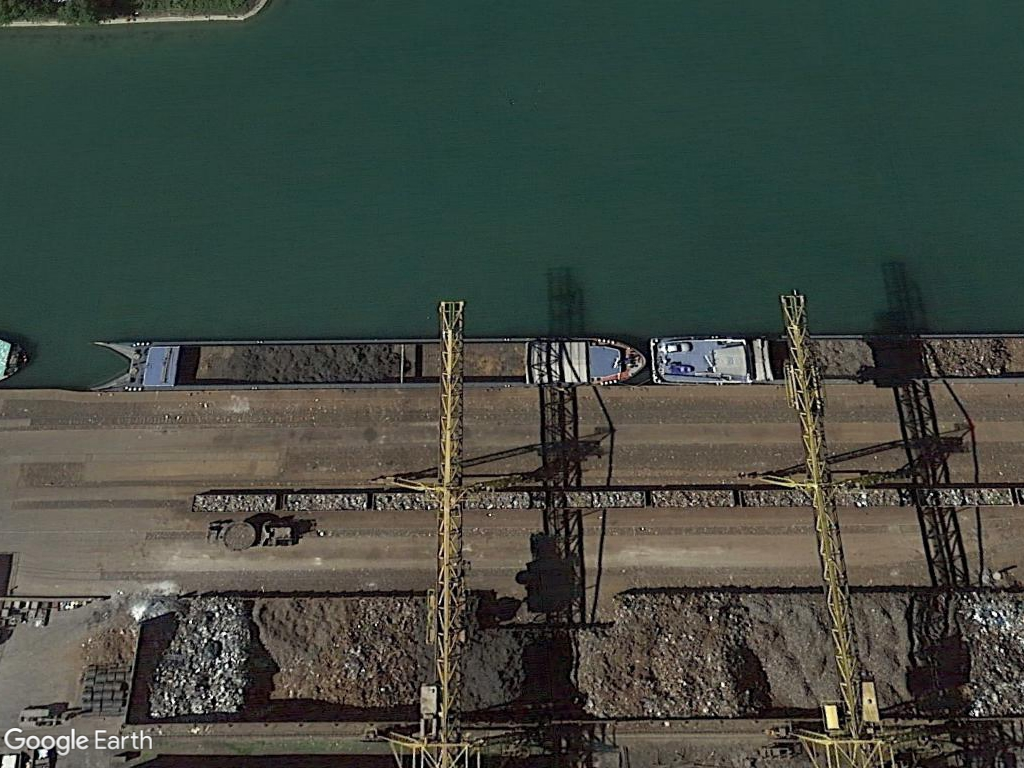boat: (87, 333, 648, 392)
